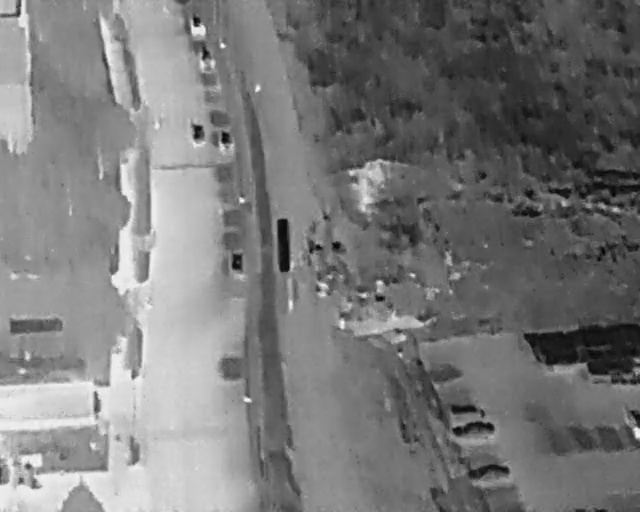Car: (467, 463, 511, 481), (452, 421, 496, 438), (188, 8, 208, 37), (449, 403, 486, 418), (198, 46, 217, 73), (218, 126, 235, 154), (189, 119, 207, 145), (627, 409, 640, 439), (231, 252, 244, 272)
